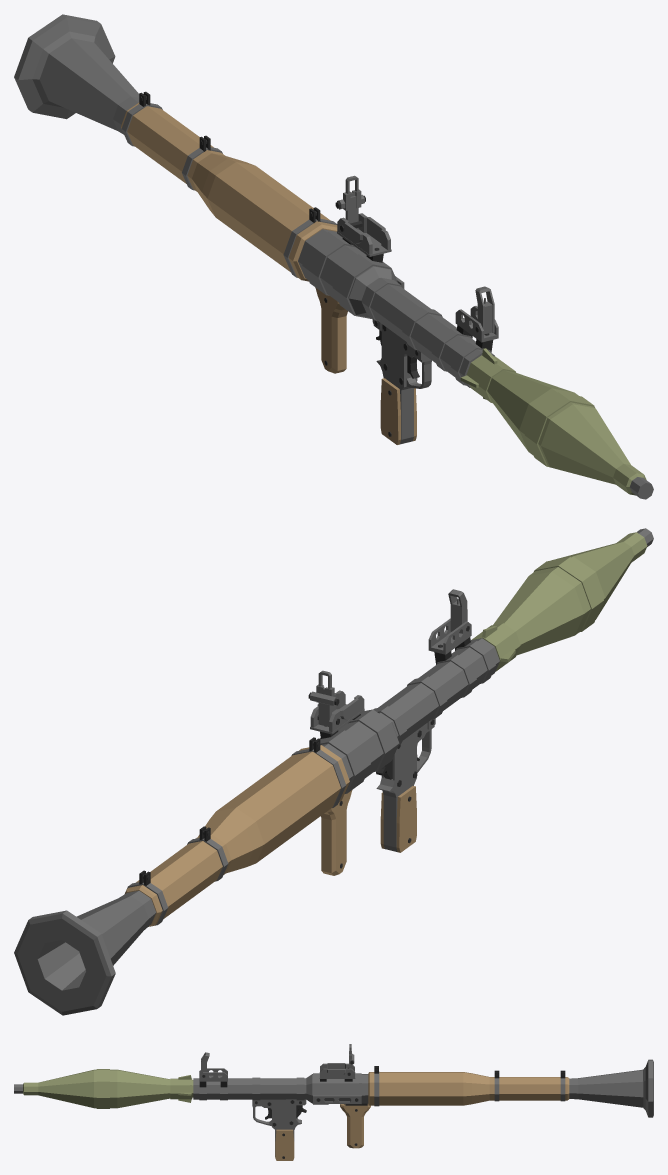
The model's file is rpg_7.gltf.
3 renders of one model, top to bottom at view 1: azimuth 30°, elevation 25°; view 2: azimuth 150°, elevation 25°; view 3: azimuth 270°, elevation 25°, orthographic. The views are drawn at different scales.
Parts seen in each view (by area): view 1: Cylinder.002, Cylinder, Cylinder.027, Cylinder.022, Cube, Cube.006, Cube.019, Cube.002, Cube.016; view 2: Cylinder.002, Cylinder, Cylinder.027, Cylinder.022, Cube, Cube.006, Cube.002, Cube.019, Cube.016; view 3: Cylinder, Cylinder.002, Cylinder.027, Cylinder.022, Cube, Cube.006, Cube.002, Cube.019, Cube.013, Cube.016.
Part boxes in pixels (left/top/right/bottom): Cylinder.002: left=14, top=14, right=494, bottom=387; Cylinder: left=121, top=102, right=337, bottom=281; Cylinder.027: left=466, top=355, right=646, bottom=495; Cylinder.022: left=121, top=103, right=490, bottom=385; Cube: left=372, top=319, right=431, bottom=444; Cube.006: left=315, top=287, right=347, bottom=373; Cube.019: left=337, top=213, right=390, bottom=254; Cube.002: left=380, top=378, right=416, bottom=444; Cube.016: left=455, top=306, right=498, bottom=342; Cylinder.002: left=14, top=638, right=499, bottom=1015; Cylinder: left=124, top=745, right=349, bottom=926; Cylinder.027: left=471, top=532, right=647, bottom=671; Cylinder.022: left=127, top=641, right=495, bottom=926; Cube: left=376, top=723, right=434, bottom=851; Cube.006: left=321, top=790, right=352, bottom=875; Cube.002: left=380, top=786, right=416, bottom=852; Cube.019: left=310, top=690, right=364, bottom=731; Cube.016: left=428, top=618, right=471, bottom=654; Cylinder: left=368, top=1072, right=569, bottom=1105; Cylinder.002: left=193, top=1059, right=653, bottom=1117; Cylinder.027: left=23, top=1069, right=193, bottom=1108; Cylinder.022: left=199, top=1071, right=565, bottom=1106; Cube: left=252, top=1099, right=306, bottom=1156; Cube.006: left=340, top=1104, right=370, bottom=1148; Cube.002: left=275, top=1129, right=294, bottom=1160; Cube.019: left=320, top=1063, right=354, bottom=1077; Cube.013: left=313, top=1095, right=361, bottom=1103; Cube.016: left=199, top=1068, right=227, bottom=1081.
Bounding box in the file's own units: 0.1285 × 0.2689 × 1.33.
